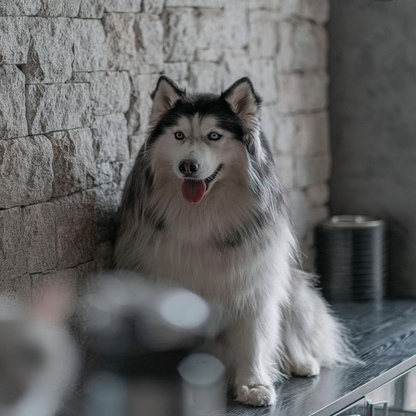husky: (102, 69, 371, 402)
